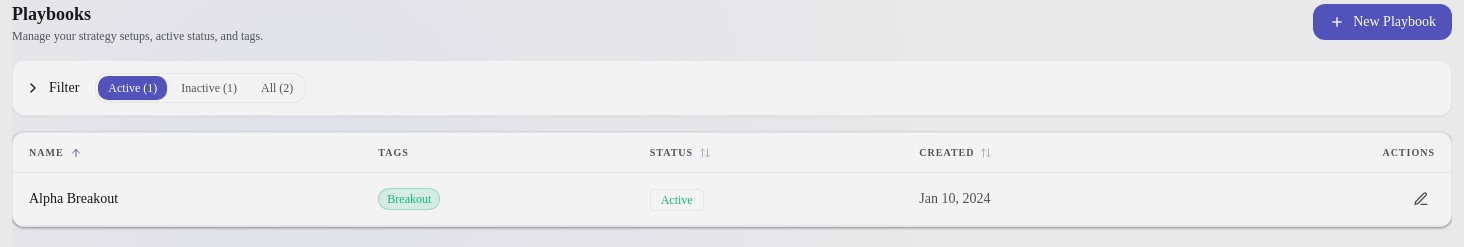
Scenario: PlaybookList › filters to inactive playbooks when Inactive tab is clicked
Click the button "Inactive (1)" at (209, 88), box [171,76,247,100]
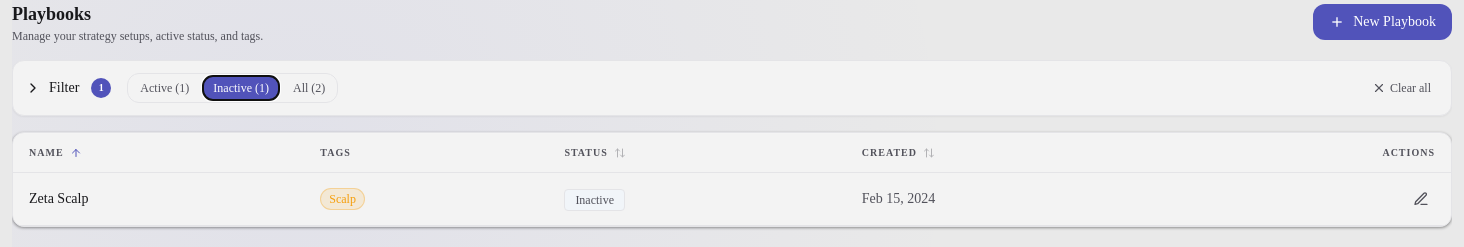
Now the text "Zeta Scalp" is shown, box [13,172,304,226]
Now the text "Alpha Breakout" is gone
